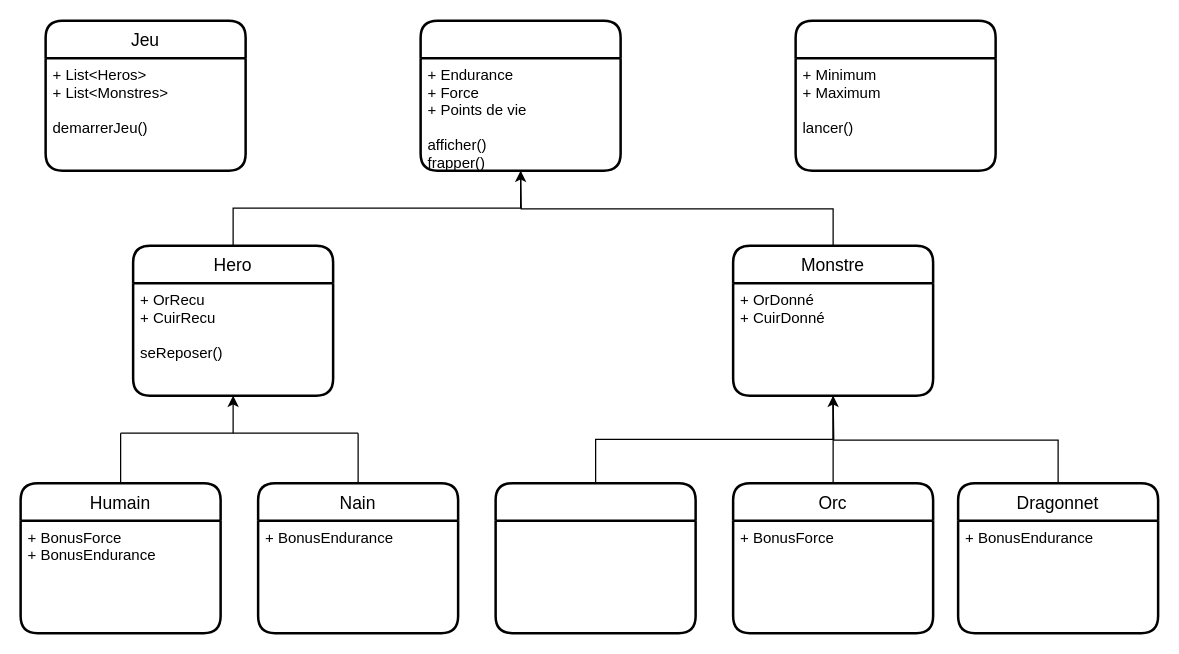
Some shapes in this 1179 by 654 pixel diagram are drawn without their labels. Here are the shapes that lost their labels. From the top down, the box of each, then its label:
(419, 19, 621, 171): Personnage
(794, 19, 996, 171): De
(494, 481, 696, 634): Loup
